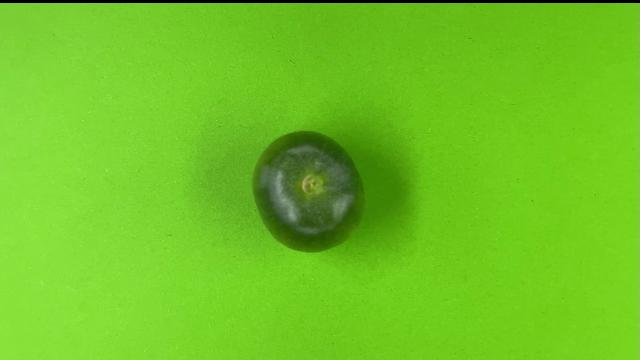Fruit Maturation: (250, 131, 368, 254)
